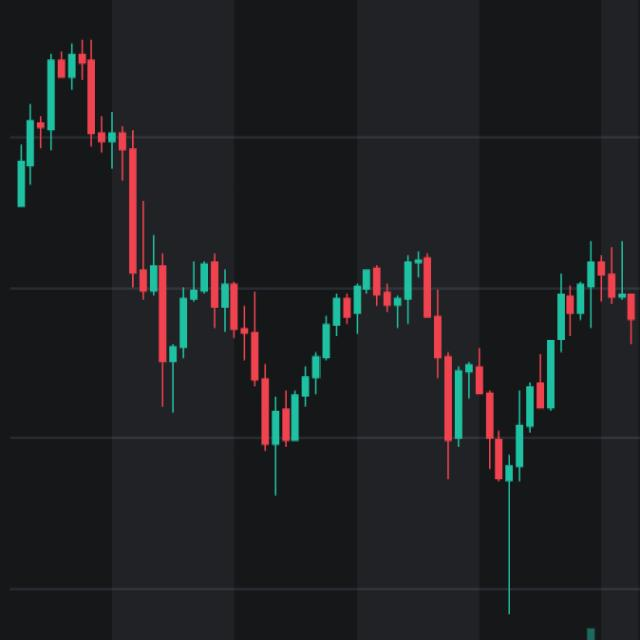Resistance-breakout: (177, 246, 640, 489)
Support-breakout: (12, 29, 172, 408)
